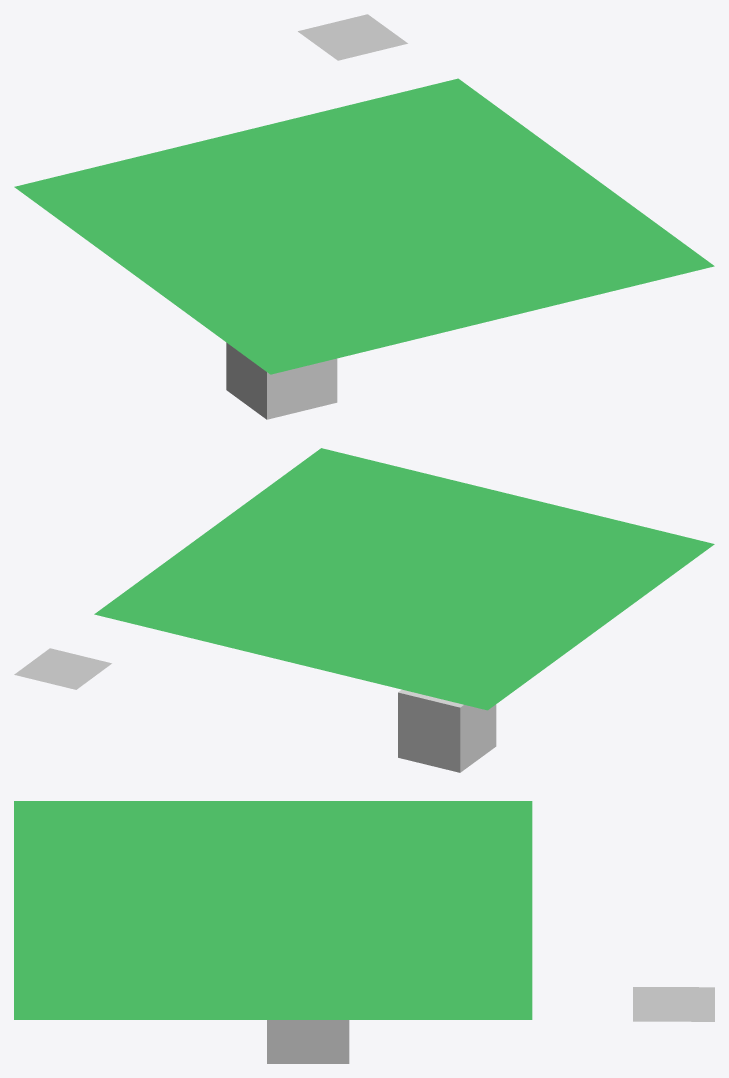
3 views of the same model, one above another, from view 1: azimuth 30°, elevation 25°; view 2: azimuth 150°, elevation 25°; view 3: azimuth 270°, elevation 25° (orthographic). The views are drawn at different scales.
Parts seen in each view (by area): view 1: Ceiling, Cube, EmitiveLight; view 2: Ceiling, Cube, EmitiveLight; view 3: Ceiling, Cube, EmitiveLight.
Boxes of the visible parts, left/top/right/bottom form: Ceiling: left=14, top=78, right=714, bottom=374; Cube: left=226, top=342, right=337, bottom=419; EmitiveLight: left=298, top=14, right=407, bottom=60; Ceiling: left=94, top=448, right=714, bottom=710; Cube: left=398, top=689, right=496, bottom=772; EmitiveLight: left=14, top=648, right=111, bottom=689; Ceiling: left=14, top=801, right=532, bottom=1019; Cube: left=267, top=1020, right=349, bottom=1063; EmitiveLight: left=633, top=987, right=714, bottom=1021.
Size of what is drawn, in the model's own units: 12.63 by 17.08 by 4.52.
